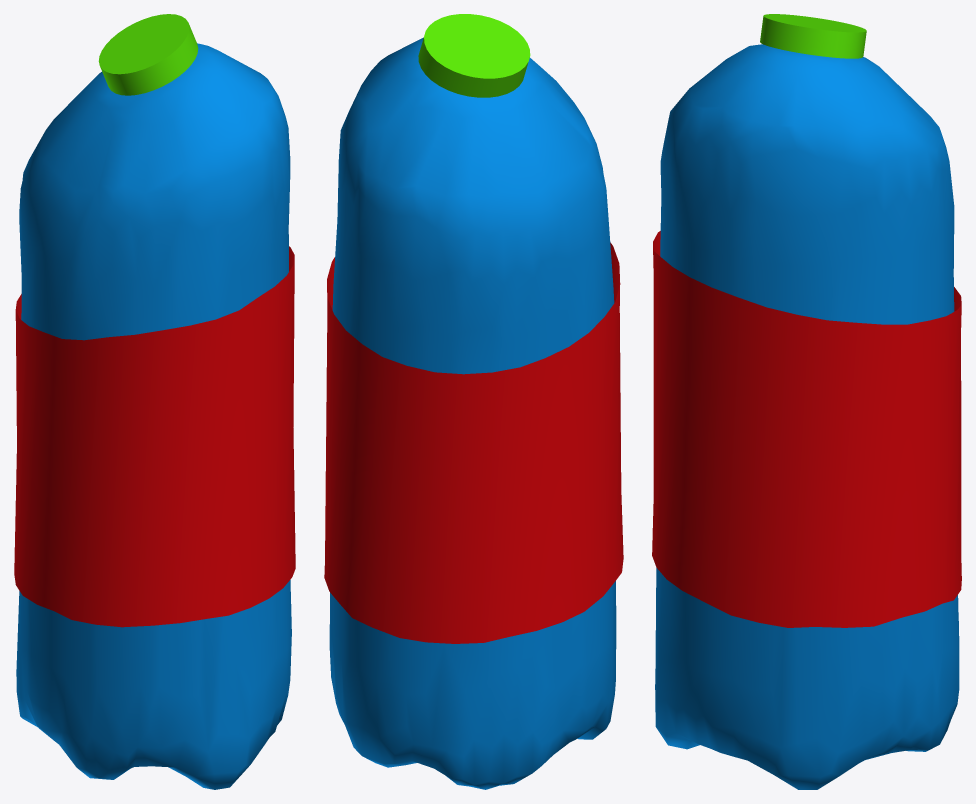
The model's file is bottle 1.fbx.
The picture shows the model from 3 angles, left to right: view 1: azimuth 30°, elevation 25°; view 2: azimuth 150°, elevation 25°; view 3: azimuth 270°, elevation 25°; orthographic projection. The views are drawn at different scales.
Parts seen in each view (by area): view 1: Cylinder, Cylinder.002, Cylinder.001; view 2: Cylinder, Cylinder.002, Cylinder.001; view 3: Cylinder, Cylinder.002, Cylinder.001.
Part boxes in pixels (bbox=[...]): Cylinder: bbox=[16, 43, 291, 789]; Cylinder.002: bbox=[14, 246, 295, 627]; Cylinder.001: bbox=[98, 14, 198, 95]; Cylinder: bbox=[329, 37, 616, 789]; Cylinder.002: bbox=[324, 242, 623, 643]; Cylinder.001: bbox=[418, 14, 530, 97]; Cylinder: bbox=[655, 44, 959, 789]; Cylinder.002: bbox=[652, 231, 961, 627]; Cylinder.001: bbox=[760, 14, 866, 58].
Bounding box in the file's own units: 110 × 304 × 116.
